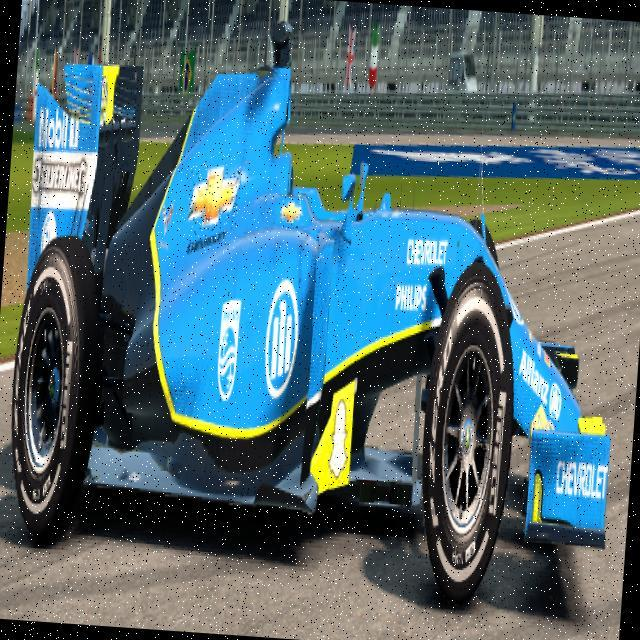Chevrolet: (185, 160, 242, 254), (279, 193, 303, 231)
